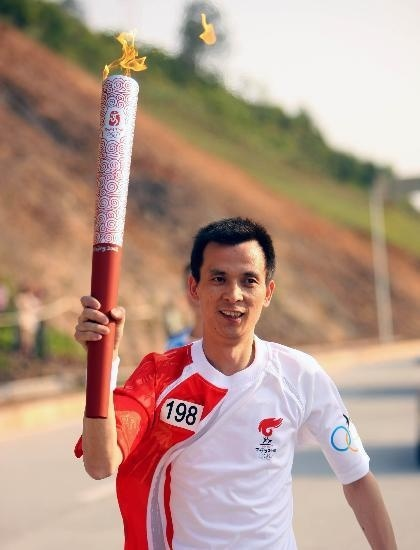fire: (100, 27, 149, 77), (197, 9, 216, 45)
